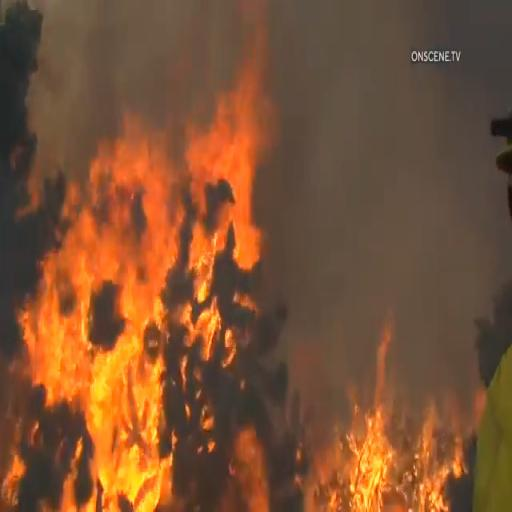fire: (42, 67, 251, 461)
